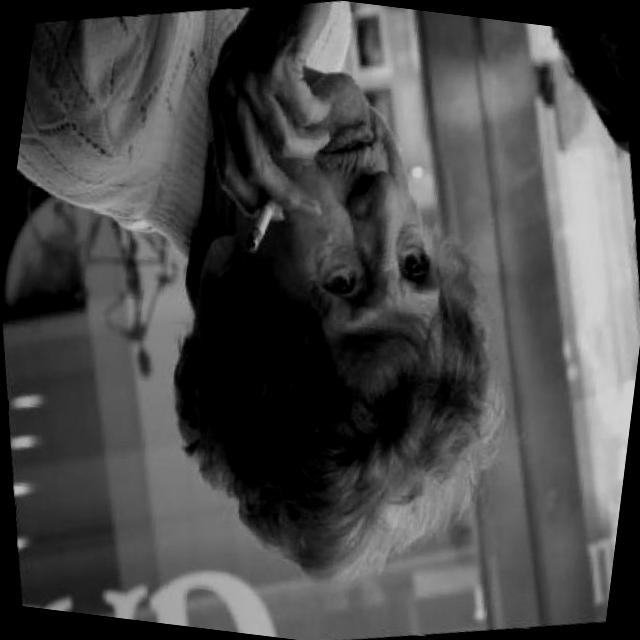smoke: (231, 190, 286, 256)
